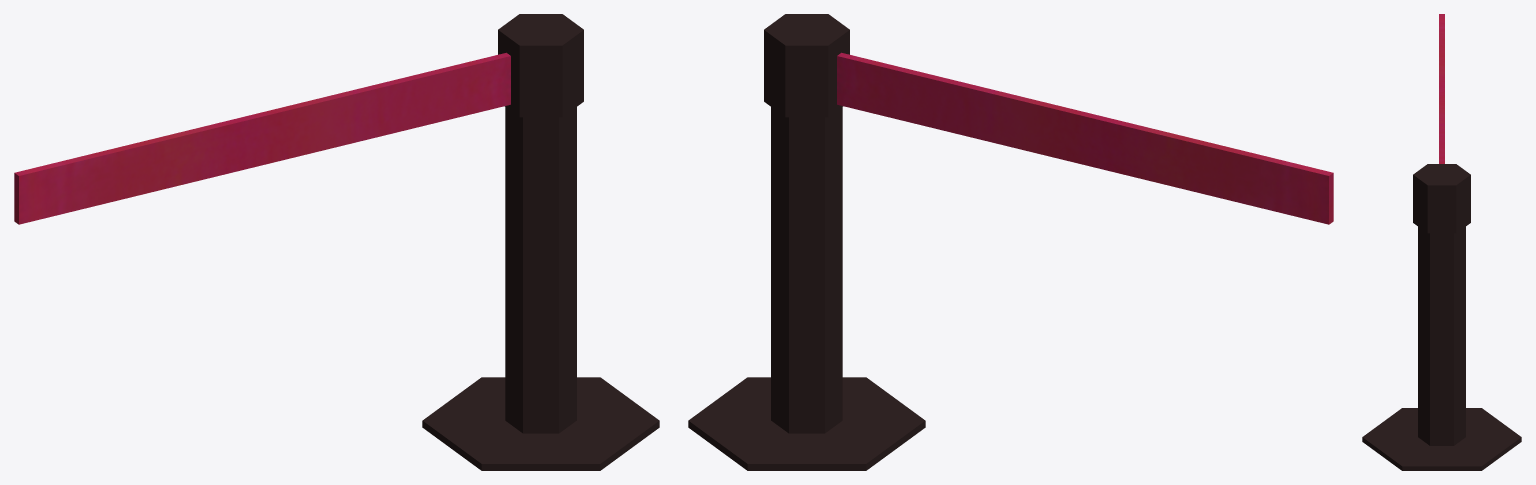
The model's file is FBX_Model_MABacklog_Stanchion.fbx.
3 views of the same model, side by side, from view 1: azimuth 30°, elevation 25°; view 2: azimuth 150°, elevation 25°; view 3: azimuth 270°, elevation 25° (orthographic). The views are drawn at different scales.
Parts seen in each view (by area): view 1: Stanchion_Pole, Stanchion_Belt; view 2: Stanchion_Pole, Stanchion_Belt; view 3: Stanchion_Pole, Stanchion_Belt.
Boxes of the visible parts, x1=… form: Stanchion_Pole: x1=422, y1=14, x2=659, y2=470; Stanchion_Belt: x1=14, y1=52, x2=510, y2=224; Stanchion_Pole: x1=688, y1=14, x2=925, y2=470; Stanchion_Belt: x1=837, y1=52, x2=1333, y2=224; Stanchion_Pole: x1=1362, y1=164, x2=1521, y2=470; Stanchion_Belt: x1=1439, y1=14, x2=1444, y2=163.
Size of the model in its own units: 19.77 by 12.25 by 6.62.
1 material, 1 textured.
